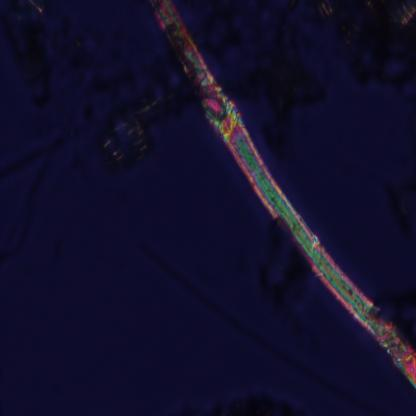Microfibre: (151, 0, 416, 394)
